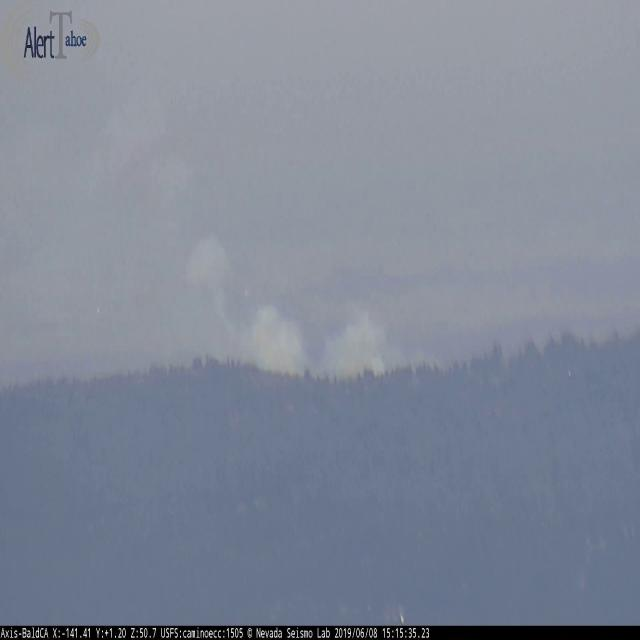smoke: (178, 205, 451, 386)
